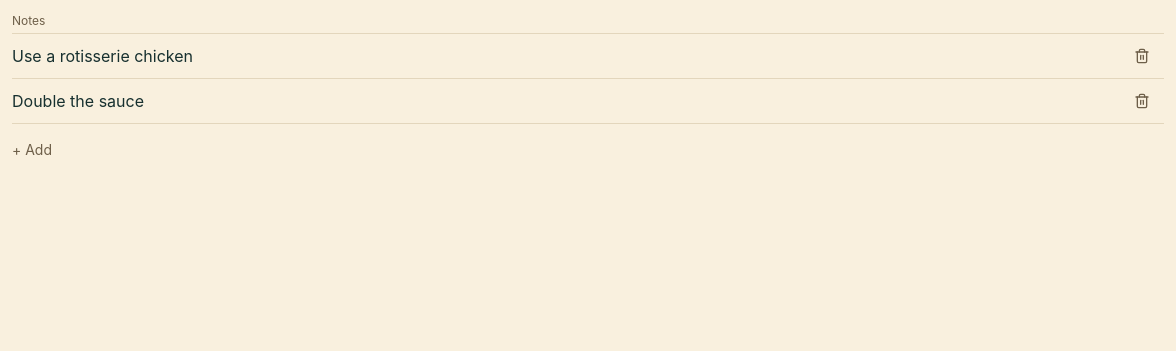
Test: NoteList › keeps what was typed and shows an alert when adding fails
This screenshot has width=1176, height=351.
Click the button with aria-label "Add a note" at (32, 150), box [12, 128, 52, 172]
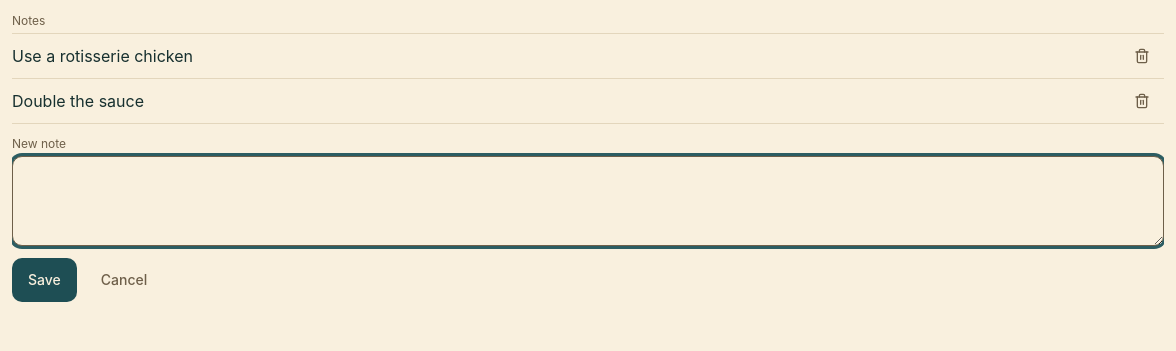
Type "Warm the tortillas" into the text box labelled "New note" at (588, 201), box [12, 156, 1164, 246]
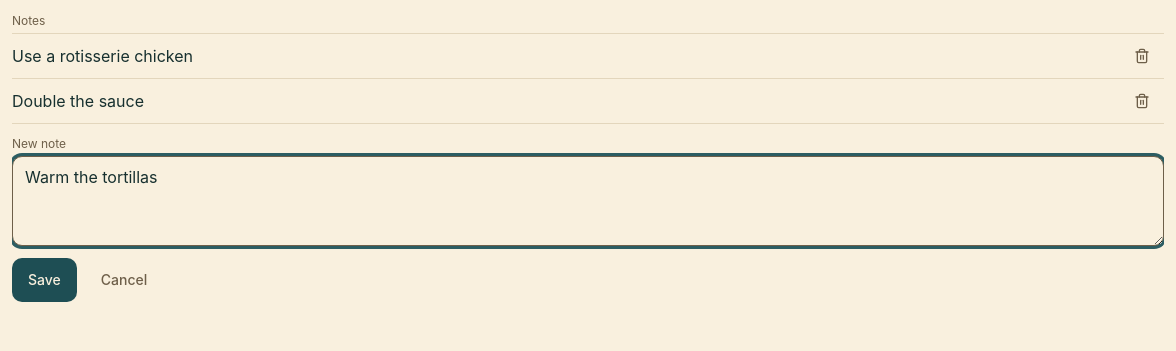
Click the button "Save" at (44, 280), box [12, 258, 77, 302]
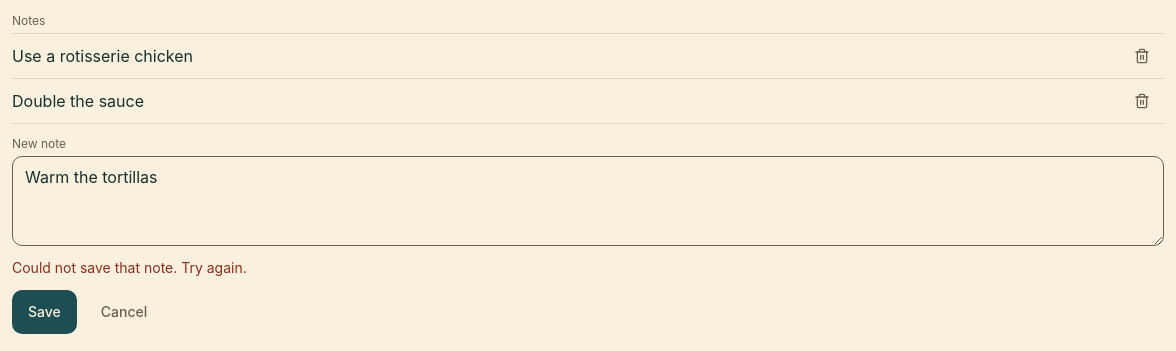
Expected: the message reads "Could not save that note. Try again.", [12, 259, 247, 276]
